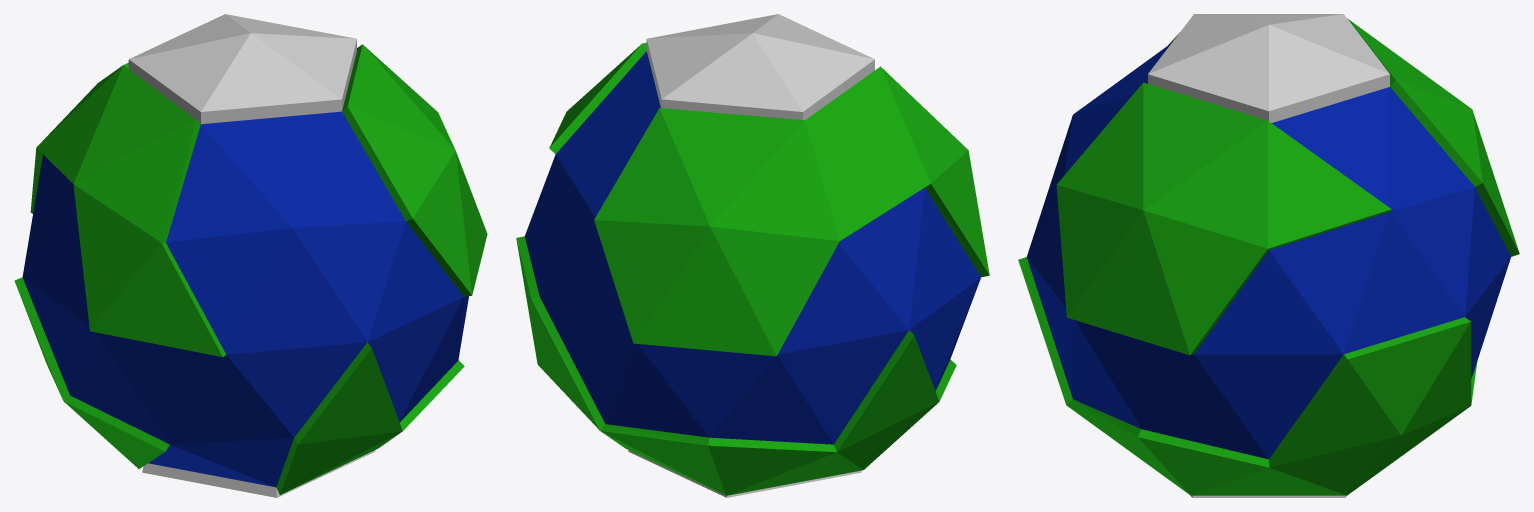
Rendered from planet.obj.
3 views of the same model, side by side, from view 1: azimuth 30°, elevation 25°; view 2: azimuth 150°, elevation 25°; view 3: azimuth 270°, elevation 25° (orthographic). The views are drawn at different scales.
Parts seen in each view (by area): view 1: Icosphere_Icosphere.002; view 2: Icosphere_Icosphere.002; view 3: Icosphere_Icosphere.002.
Part boxes in pixels (x1,y1,x2,y2): Icosphere_Icosphere.002: (14, 14, 487, 497); Icosphere_Icosphere.002: (516, 14, 989, 497); Icosphere_Icosphere.002: (1018, 14, 1519, 497).
Size of the model in its own units: 1.97 by 2.1 by 2.07.
